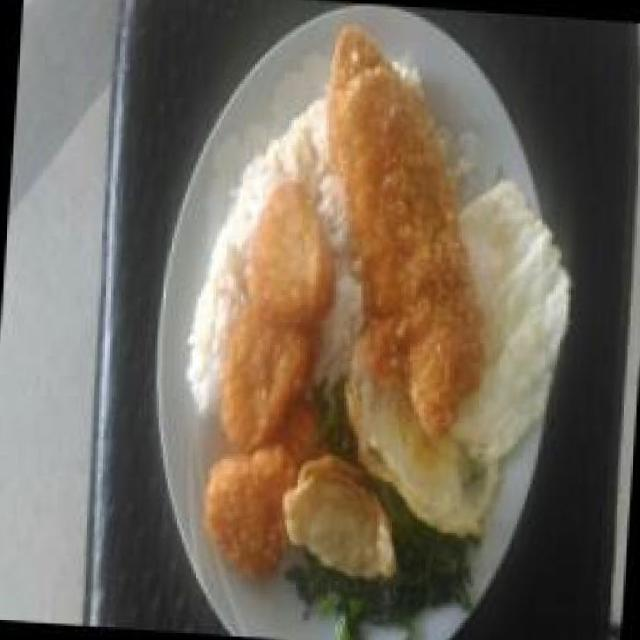fried_chicken: (306, 30, 506, 438)
fried_dumplings: (276, 447, 402, 584)
fried_eggs: (346, 170, 575, 527)
rice: (232, 108, 336, 203), (392, 519, 472, 623)
triangle_hash_brown: (200, 175, 336, 580)
